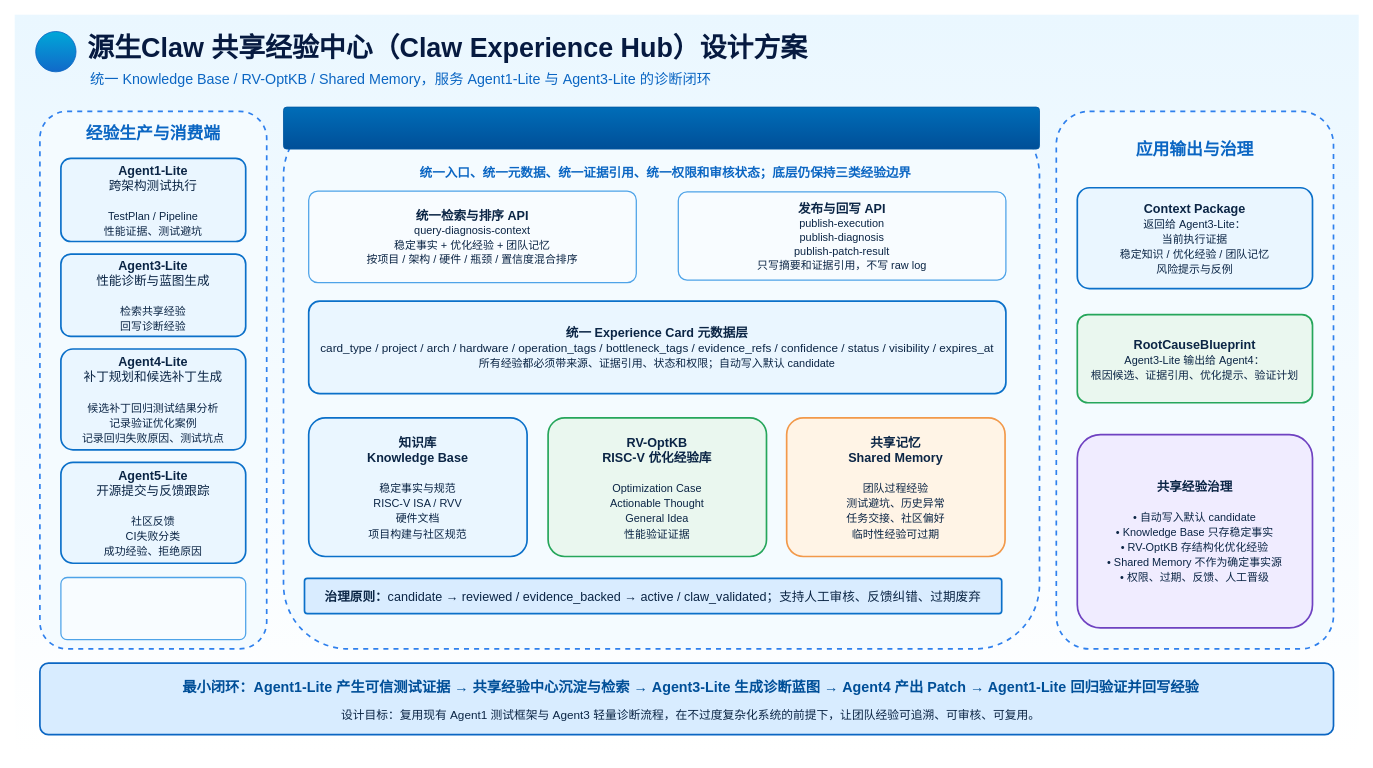
This 1373x768 diagram has some shape labels left out. Here are the shapes that lost their labels. From the top down, the centre of each, then its label:
pixel 55 51: Exp
pixel 661 127: Claw Experience Hub：统一共享经验中心
pixel 153 608: 团队开发者 / 审核者 检索经验、人工审核 反馈有用 / 错误 / 过期
